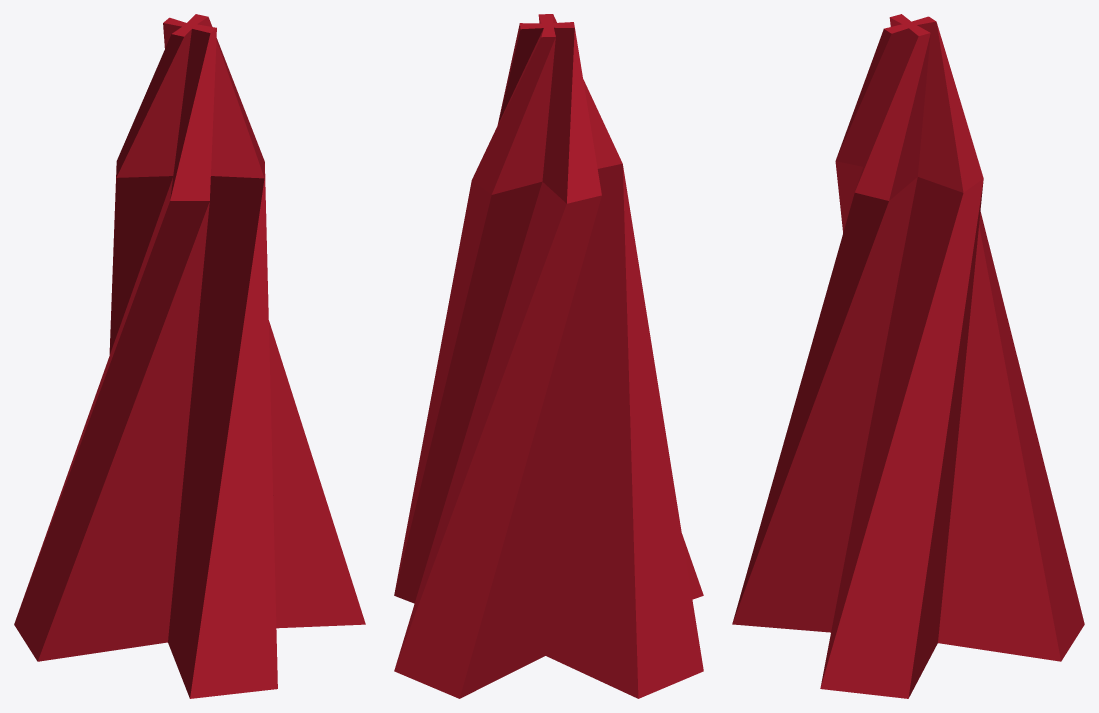
File: tree-dead-leaves-007.glb
The picture shows the model from 3 angles, left to right: view 1: azimuth 30°, elevation 25°; view 2: azimuth 150°, elevation 25°; view 3: azimuth 270°, elevation 25°; orthographic projection.
Visible parts, largest first — view 1: Circle.051_435; view 2: Circle.051_435; view 3: Circle.051_435.
Boxes of the visible parts, <box> form: Circle.051_435: <box>14,14,365,698</box>; Circle.051_435: <box>394,14,703,698</box>; Circle.051_435: <box>732,14,1084,698</box>.
Size of the model in its own units: 0.7312 by 1.37 by 0.7312.
